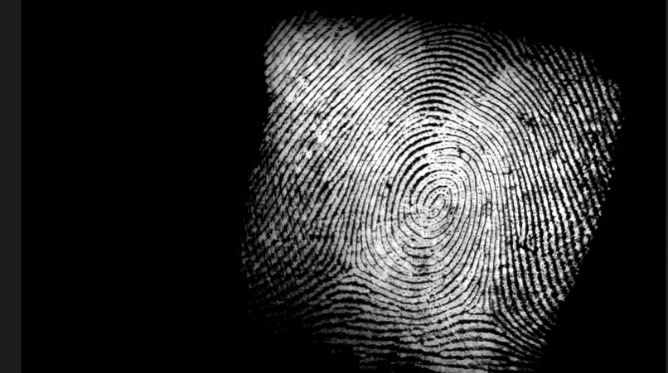deltas: (451, 281, 508, 329), (328, 240, 382, 284)
nucleo: (416, 184, 459, 231)
